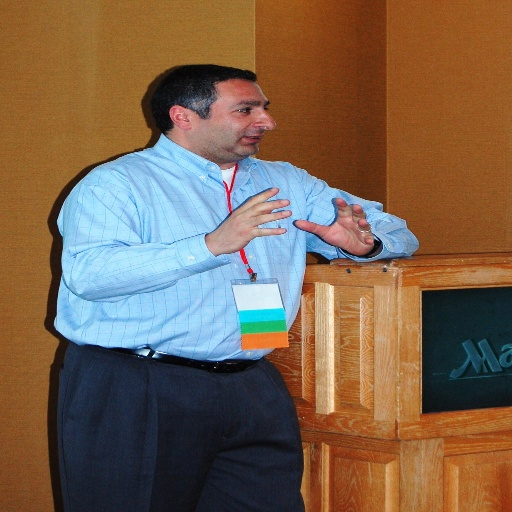hand: (208, 186, 291, 253), (291, 195, 377, 256)
